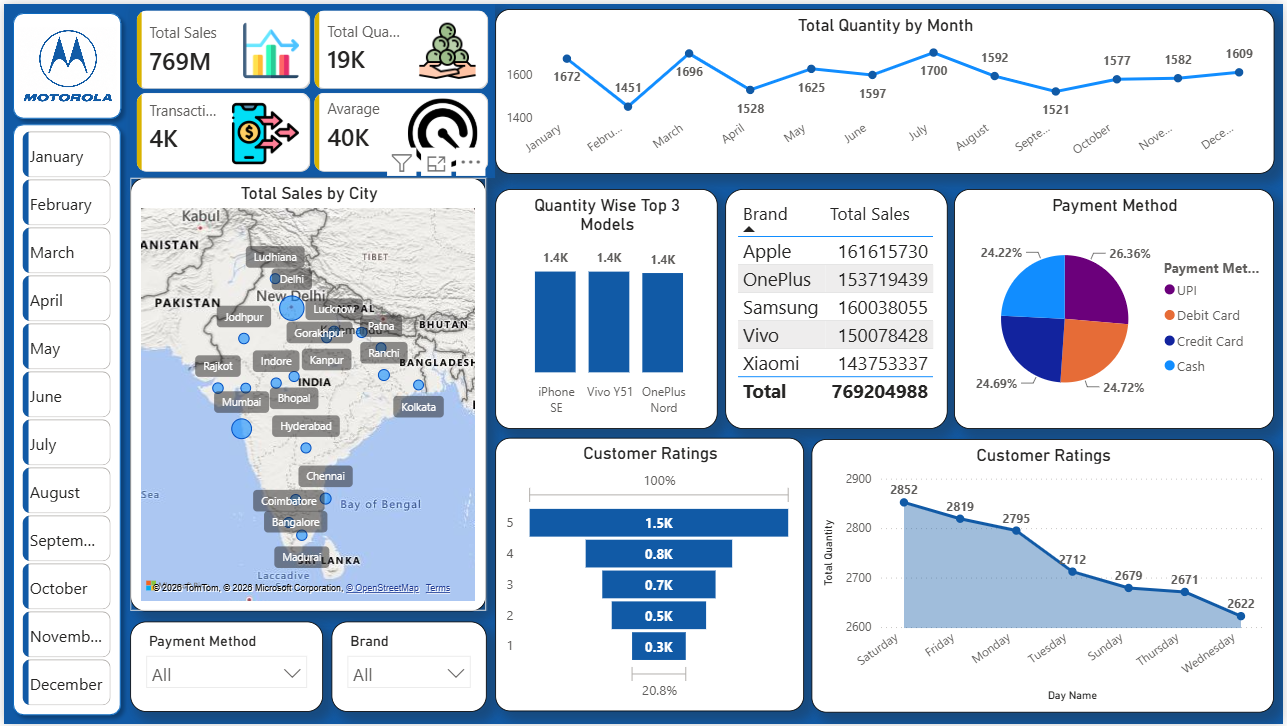

The dashboard page shown, as its layout file describes it:
{"tool":"powerbi","page":{"name":"Page 1","canvas":[1280,720],"ordinal":0},"visuals":[{"type":"group","id":"g1","title":"Group 1","box":[0,0,126.2,116.2],"z":0},{"type":"shape","box":[0,0,126.2,123.8],"z":0,"group":"g1"},{"type":"group","id":"g2","title":"Group 1","box":[0,111.2,125.9,608.9],"z":0,"group":"g3"},{"type":"shape","box":[0,111.2,125.9,608.9],"z":0,"group":"g2"},{"type":"image","box":[13.4,24.3,99.4,75.1],"z":1000,"group":"g1"},{"type":"group","id":"g3","title":"Group 2","box":[0,111.2,126.2,608.8],"z":1000},{"type":"advancedSlicerVisual","fields":{"Values":["Dashboard_Data.Date.Variation.Date Hierarchy.Month"]},"box":[14.1,122.9,98.7,585.6],"z":1000,"group":"g3"},{"type":"cardVisual","fields":{"Data":["Dashboard_Data.Total Sales","Dashboard_Data.Total Quantity","Dashboard_Data.Transactions","Dashboard_Data.Avarage"]},"box":[126.7,0,365,174.2],"z":2000},{"type":"map","fields":{"Category":["Dashboard_Data.City"],"Size":["Dashboard_Data.Total Sales"]},"box":[126.2,173.8,356.2,433.8],"z":3000},{"type":"lineChart","fields":{"Y":["Dashboard_Data.Total Quantity"],"Category":["Dashboard_Data.Date.Variation.Date Hierarchy.Month"]},"box":[491.8,4.5,779.1,164.5],"z":4000},{"type":"clusteredColumnChart","title":"Quantity Wise Top 3 Models","fields":{"Category":["Dashboard_Data.Mobile Model"],"Y":["Dashboard_Data.Total Quantity"]},"box":[491.3,185.2,222.3,240.1],"z":5000},{"type":"tableEx","fields":{"Values":["Dashboard_Data.Brand","Dashboard_Data.Total Sales"]},"box":[720.8,185,222.5,240],"z":6000},{"type":"pieChart","title":"Payment Method","fields":{"Category":["Dashboard_Data.Payment Method"],"Y":["Dashboard_Data.Transactions"]},"box":[950,185.5,320,240],"z":7000},{"type":"slicer","fields":{"Values":["Dashboard_Data.Payment Method"]},"box":[126.2,617.5,192.5,90],"z":7001},{"type":"slicer","fields":{"Values":["Dashboard_Data.Brand"]},"box":[327.5,617.5,155,90],"z":7002},{"type":"funnel","title":" Customer Ratings","fields":{"Category":["Dashboard_Data.Customer Ratings"],"Y":["CountNonNull(Dashboard_Data.Customer Ratings)"]},"box":[491.2,433.8,308.8,273.8],"z":7003},{"type":"stackedAreaChart","title":"Customer Ratings","fields":{"Category":["Dashboard_Data.Day"],"Y":["Dashboard_Data.Total Quantity"]},"box":[807.3,435.5,462.7,273.6],"z":7004}]}

Visuals, with their boxes in screenshot pixels (x1, y1, x2, y2), scaled from the page's 1280x720 canvas onto the 1287x726 screenshot:
"Group 1" group: (left=0, top=0, right=127, bottom=117)
shape: (left=0, top=0, right=127, bottom=125)
"Group 1" group: (left=0, top=112, right=127, bottom=725)
shape: (left=0, top=112, right=127, bottom=725)
image: (left=13, top=25, right=113, bottom=100)
"Group 2" group: (left=0, top=112, right=127, bottom=725)
advancedSlicerVisual - Dashboard_Data.Date.Variation.Date Hierarchy.Month: (left=14, top=124, right=113, bottom=714)
cardVisual - Dashboard_Data.Total Sales x Dashboard_Data.Total Quantity: (left=127, top=0, right=494, bottom=176)
map - Dashboard_Data.City x Dashboard_Data.Total Sales: (left=127, top=175, right=485, bottom=613)
lineChart - Dashboard_Data.Total Quantity x Dashboard_Data.Date.Variation.Date Hierarchy.Month: (left=494, top=5, right=1278, bottom=170)
"Quantity Wise Top 3 Models" clusteredColumnChart: (left=494, top=187, right=718, bottom=429)
tableEx - Dashboard_Data.Brand x Dashboard_Data.Total Sales: (left=725, top=187, right=948, bottom=429)
"Payment Method" pieChart: (left=955, top=187, right=1277, bottom=429)
slicer - Dashboard_Data.Payment Method: (left=127, top=623, right=320, bottom=713)
slicer - Dashboard_Data.Brand: (left=329, top=623, right=485, bottom=713)
" Customer Ratings" funnel: (left=494, top=437, right=804, bottom=713)
"Customer Ratings" stackedAreaChart: (left=812, top=439, right=1277, bottom=715)
